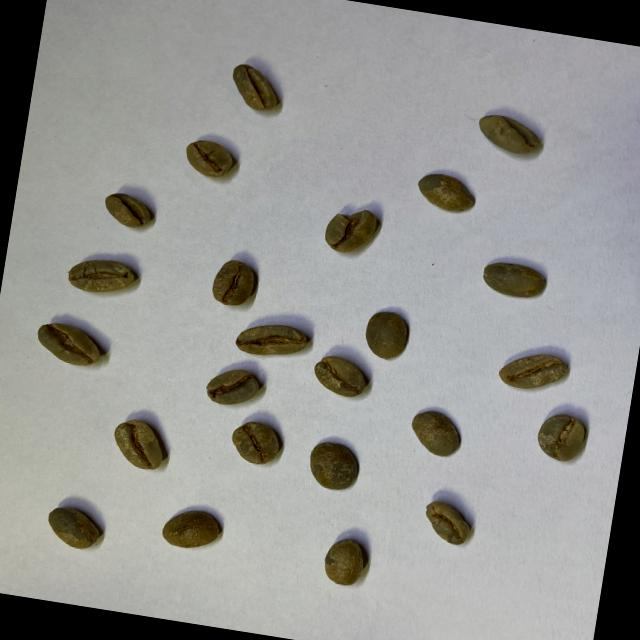bad: (496, 346, 571, 396), (322, 204, 382, 260), (66, 256, 140, 300), (227, 62, 284, 114), (420, 500, 474, 548), (182, 136, 235, 180)
good: (34, 320, 106, 370), (234, 318, 310, 364), (108, 416, 168, 473), (476, 110, 543, 158), (159, 504, 222, 554), (304, 440, 362, 494), (480, 258, 548, 302), (534, 410, 588, 465), (415, 170, 478, 217), (408, 408, 463, 461), (44, 503, 102, 553), (310, 353, 370, 400), (361, 308, 411, 362), (204, 366, 262, 412), (229, 419, 283, 468), (321, 535, 368, 589), (211, 256, 258, 308), (101, 188, 157, 230)
